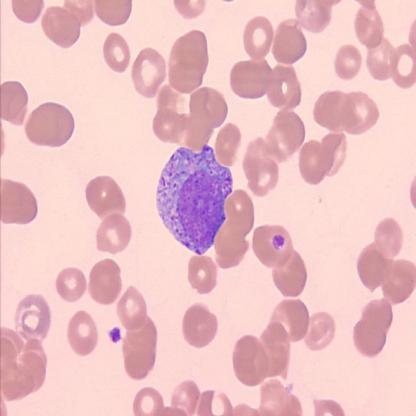Myelocyte: (156, 147, 233, 254)
